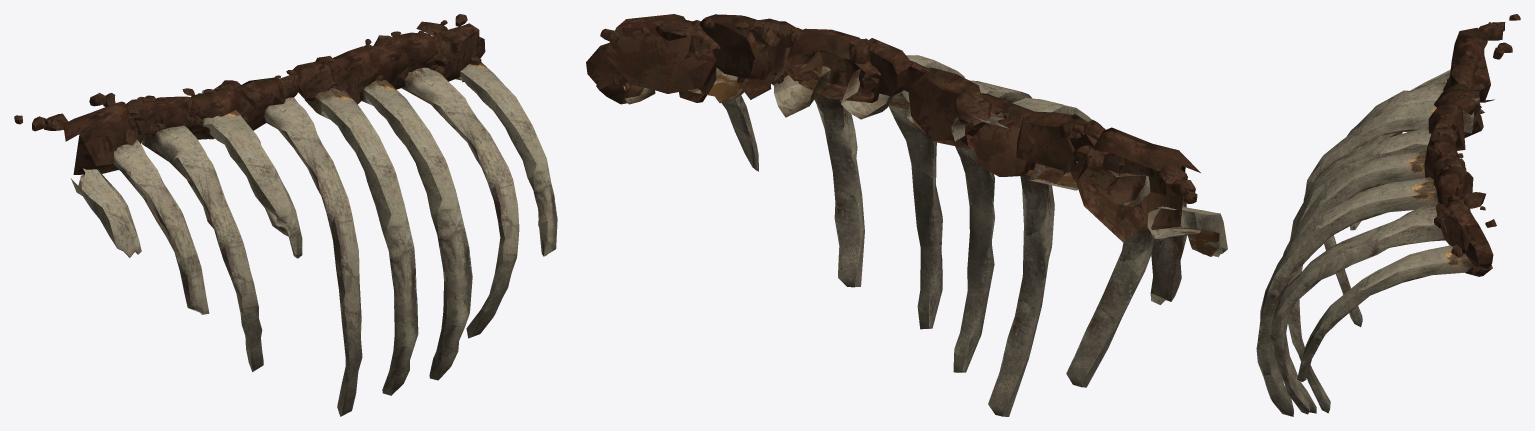
File: falls_bone1.fbx
The picture shows the model from 3 angles, left to right: view 1: azimuth 30°, elevation 25°; view 2: azimuth 150°, elevation 25°; view 3: azimuth 270°, elevation 25°; orthographic projection. The views are drawn at different scales.
Visible parts, largest first — view 1: BoneSet00_low46__BoneSet00, RockWall03_low117__RockWall03_spc; view 2: RockWall03_low117__RockWall03_spc, BoneSet00_low46__BoneSet00; view 3: BoneSet00_low46__BoneSet00, RockWall03_low117__RockWall03_spc.
Part boxes in pixels (bbox=[...]): BoneSet00_low46__BoneSet00: bbox=[71, 62, 557, 416]; RockWall03_low117__RockWall03_spc: bbox=[14, 14, 485, 174]; RockWall03_low117__RockWall03_spc: bbox=[586, 14, 1200, 241]; BoneSet00_low46__BoneSet00: bbox=[623, 55, 1227, 416]; BoneSet00_low46__BoneSet00: bbox=[1256, 69, 1484, 416]; RockWall03_low117__RockWall03_spc: bbox=[1424, 14, 1520, 276].
Bounding box in the file's own units: 3809 × 2453 × 1932.
Materials: 2 (2 with a texture image).
